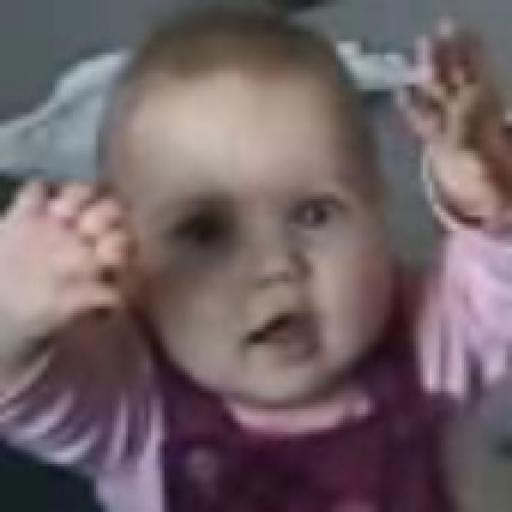Autism: (52, 0, 435, 443)
